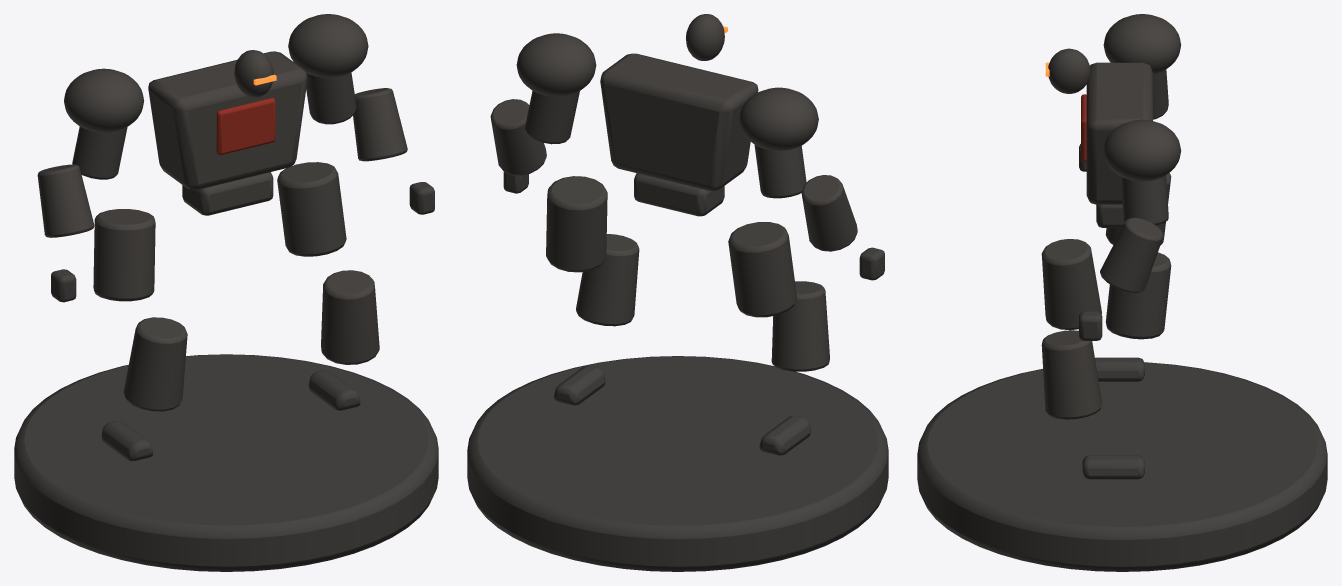
The model's file is foundries_frame_scavenger.glb.
3 views of the same model, side by side, from view 1: azimuth 30°, elevation 25°; view 2: azimuth 150°, elevation 25°; view 3: azimuth 270°, elevation 25° (orthographic). The views are drawn at different scales.
Parts seen in each view (by area): view 1: standin_base, standin_torso, standin_thigh_L, standin_thigh_R, standin_shin_R, standin_shin_L, standin_pauldron_R, standin_pauldron_L, standin_forearm_R, standin_forearm_L, tp, standin_pelvis (+7 smaller); view 2: standin_base, standin_torso, standin_thigh_R, standin_thigh_L, standin_shin_L, standin_shin_R, standin_pauldron_R, standin_pauldron_L, standin_forearm_R, standin_forearm_L, standin_pelvis, standin_arm_L (+5 smaller); view 3: standin_base, standin_torso, standin_shin_L, standin_shin_R, standin_pauldron_L, standin_thigh_L, standin_pauldron_R, standin_forearm_L, standin_arm_L, standin_helm, standin_foot_L, standin_foot_R (+3 smaller).
Boxes of the visible parts, box(x1,y1,x2,y2) form: standin_base: box(14, 354, 438, 571); standin_torso: box(148, 51, 307, 189); standin_thigh_L: box(277, 162, 346, 256); standin_thigh_R: box(93, 209, 155, 301); standin_shin_R: box(123, 317, 187, 411); standin_shin_L: box(321, 270, 379, 364); standin_pauldron_R: box(64, 68, 143, 132); standin_pauldron_L: box(288, 14, 368, 77); standin_forearm_R: box(37, 164, 94, 237); standin_forearm_L: box(353, 88, 407, 161); tp: box(216, 98, 275, 154); standin_pelvis: box(182, 172, 273, 215); standin_base: box(467, 356, 888, 571); standin_torso: box(600, 53, 758, 190); standin_thigh_R: box(728, 222, 796, 317); standin_thigh_L: box(546, 176, 607, 272); standin_shin_L: box(576, 234, 639, 326); standin_shin_R: box(771, 281, 829, 371); standin_pauldron_R: box(739, 87, 818, 150); standin_pauldron_L: box(516, 33, 596, 96); standin_forearm_R: box(801, 175, 857, 251); standin_forearm_L: box(490, 99, 546, 175); standin_pelvis: box(634, 173, 724, 216); standin_arm_L: box(525, 90, 579, 144); standin_base: box(917, 362, 1327, 571); standin_torso: box(1086, 62, 1152, 204); standin_shin_L: box(1041, 330, 1101, 419); standin_shin_R: box(1041, 239, 1101, 330); standin_pauldron_L: box(1103, 119, 1181, 181); standin_thigh_L: box(1105, 252, 1171, 339); standin_pauldron_R: box(1103, 14, 1180, 74); standin_forearm_L: box(1100, 217, 1163, 293); standin_arm_L: box(1121, 175, 1168, 225); standin_helm: box(1048, 48, 1090, 93); standin_foot_L: box(1082, 455, 1144, 479); standin_foot_R: box(1095, 357, 1144, 381).
Bounding box in the file's own units: 25.58 × 29.55 × 25.
